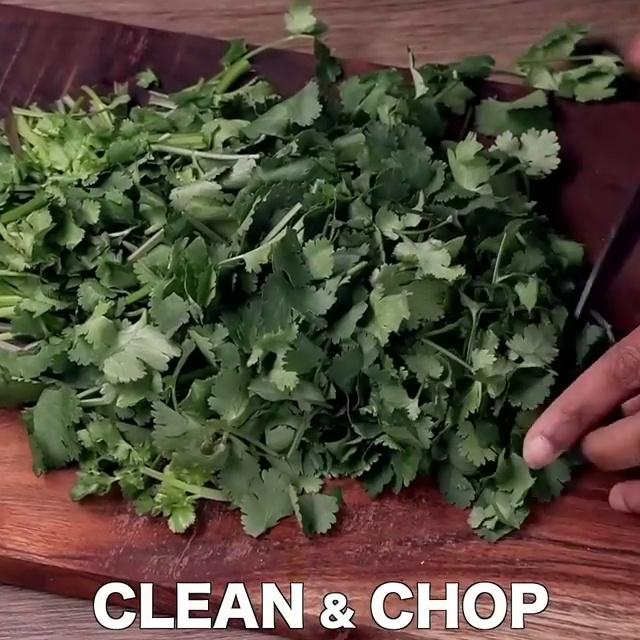cilantro: (0, 95, 507, 486)
